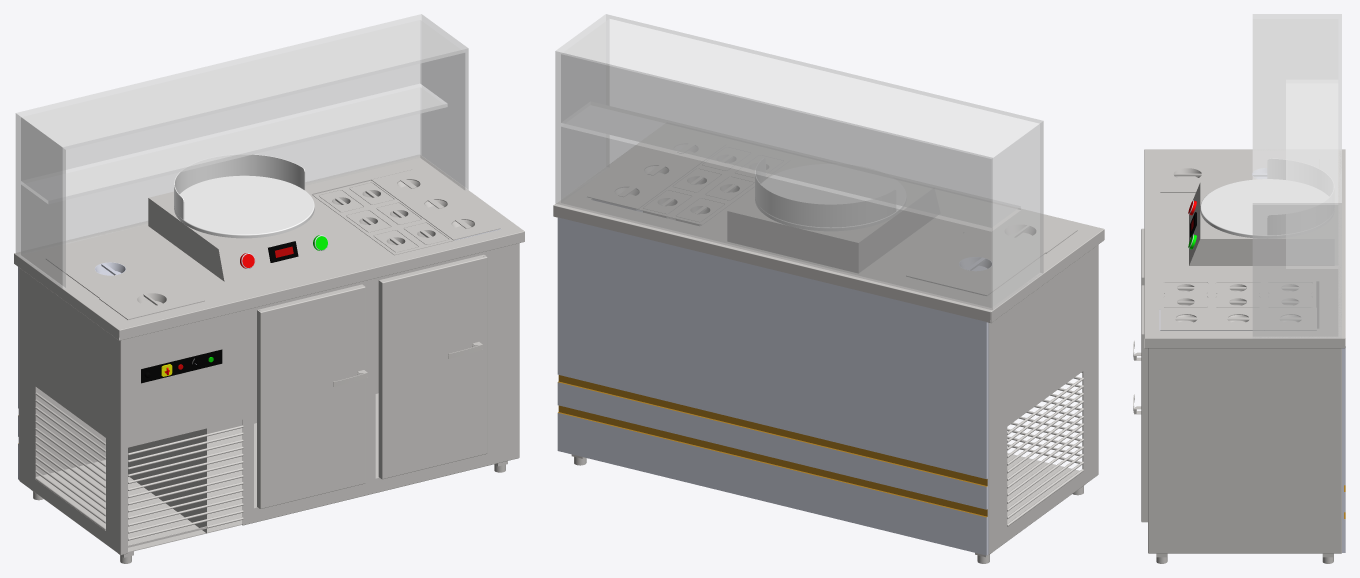
Rendered from Chat.glb.
3 renders of one model, left to right at view 1: azimuth 30°, elevation 25°; view 2: azimuth 150°, elevation 25°; view 3: azimuth 270°, elevation 25°, orthographic. The views are drawn at different scales.
Parts seen in each view (by area): view 1: body 60x25 chat, glass ohs, top door 60x25 chat (×2), counter top. ch 60x25, pav baji plate, 1-9 bowl (×6), 1by2 bowl, PAN CAP 16 (×3), 1by4 bowl, PANEL BOARD; view 2: body 60x25 chat, glass ohs, counter top. ch 60x25, pav baji plate, 1by2 bowl, 1-9 bowl (×4), PAN CAP 16 (×2), 1by4 bowl; view 3: body 60x25 chat, glass ohs, counter top. ch 60x25, pav baji plate, 1-9 bowl (×6), PAN CAP 16 (×3), 1by4 bowl, top door 60x25 chat, 1by2 bowl.
Boxes of the visible parts, x1,y1,x2,y2 form: body 60x25 chat: (18, 180, 519, 563); glass ohs: (15, 14, 468, 288); top door 60x25 chat (×2): (257, 254, 487, 508); counter top. ch 60x25: (14, 154, 524, 340); pav baji plate: (148, 154, 346, 281); 1-9 bowl (×6): (312, 180, 454, 255); 1by2 bowl: (46, 240, 174, 298); PAN CAP 16 (×3): (371, 168, 500, 240); 1by4 bowl: (99, 279, 204, 319); PANEL BOARD: (141, 349, 222, 383); body 60x25 chat: (557, 199, 1098, 563); glass ohs: (555, 14, 1043, 310); counter top. ch 60x25: (553, 142, 1104, 322); pav baji plate: (727, 165, 937, 273); 1by2 bowl: (906, 233, 1045, 295); 1-9 bowl (×4): (638, 166, 754, 225); PAN CAP 16 (×2): (587, 153, 696, 209); 1by4 bowl: (964, 214, 1077, 253); body 60x25 chat: (1148, 282, 1345, 563); glass ohs: (1252, 14, 1341, 338); counter top. ch 60x25: (1144, 149, 1345, 348); pav baji plate: (1188, 158, 1333, 265); 1-9 bowl (×6): (1159, 280, 1315, 308); PAN CAP 16 (×3): (1160, 307, 1316, 330); 1by4 bowl: (1160, 156, 1215, 192); top door 60x25 chat: (1141, 285, 1147, 522); 1by2 bowl: (1215, 156, 1285, 181).
Bounding box in the file's own units: 1.52 × 1.38 × 0.7239.
